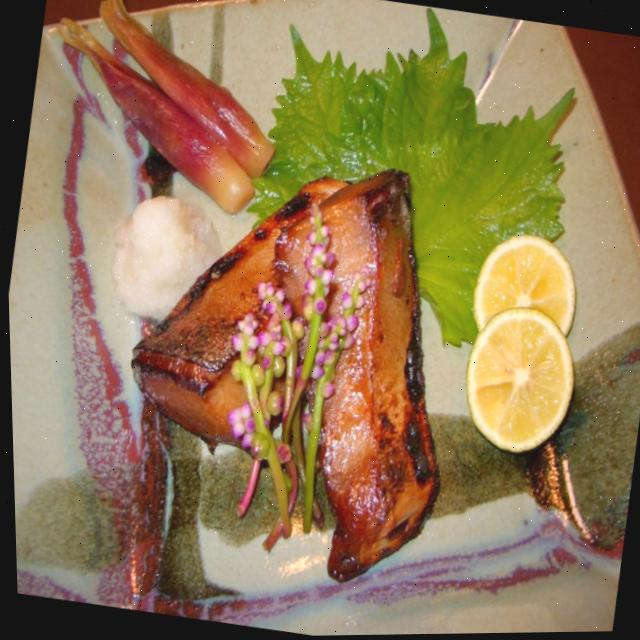熟制海鲜: (98, 101, 477, 584)
